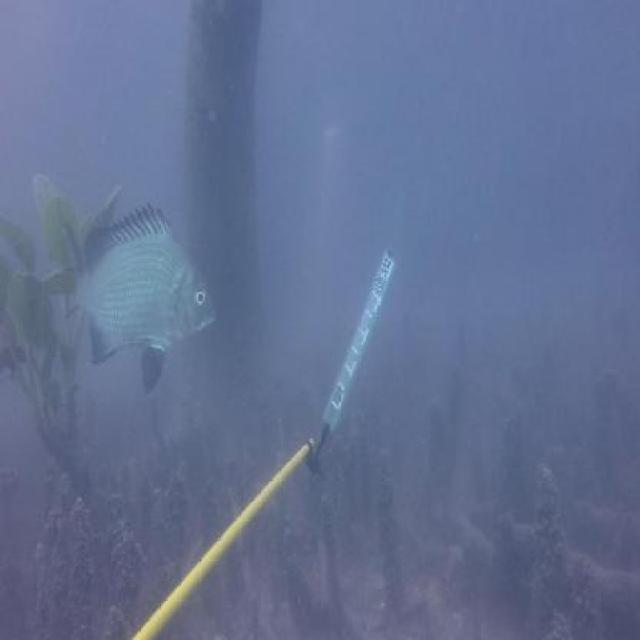acanthopagrus_palmaris: (65, 210, 222, 396)
